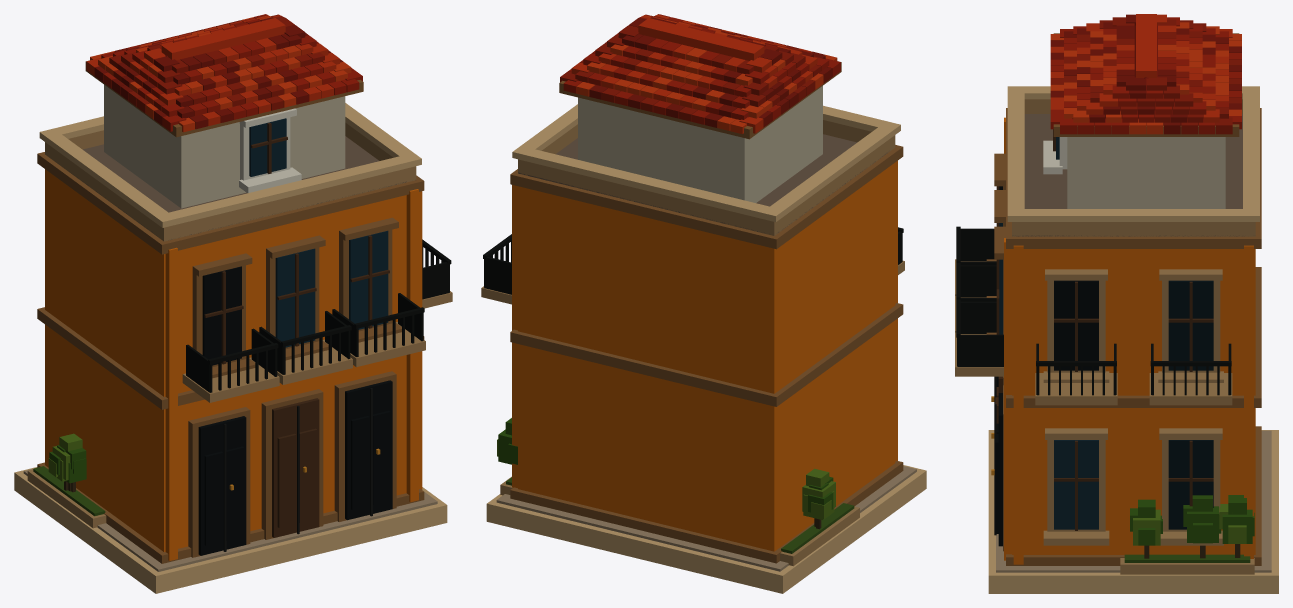
The model's file is SM_Mapa_000.fbx.
3 views of the same model, side by side, from view 1: azimuth 30°, elevation 25°; view 2: azimuth 150°, elevation 25°; view 3: azimuth 270°, elevation 25° (orthographic). The views are drawn at different scales.
Visible parts, largest first — view 1: SM_Mapa_000; view 2: SM_Mapa_000; view 3: SM_Mapa_000.
Part boxes in pixels (x1=…): SM_Mapa_000: x1=14, y1=14, x2=452, y2=593; SM_Mapa_000: x1=481, y1=14, x2=926, y2=593; SM_Mapa_000: x1=955, y1=14, x2=1278, y2=593.
Size of the model in its own units: 8 by 6.78 by 11.06.
